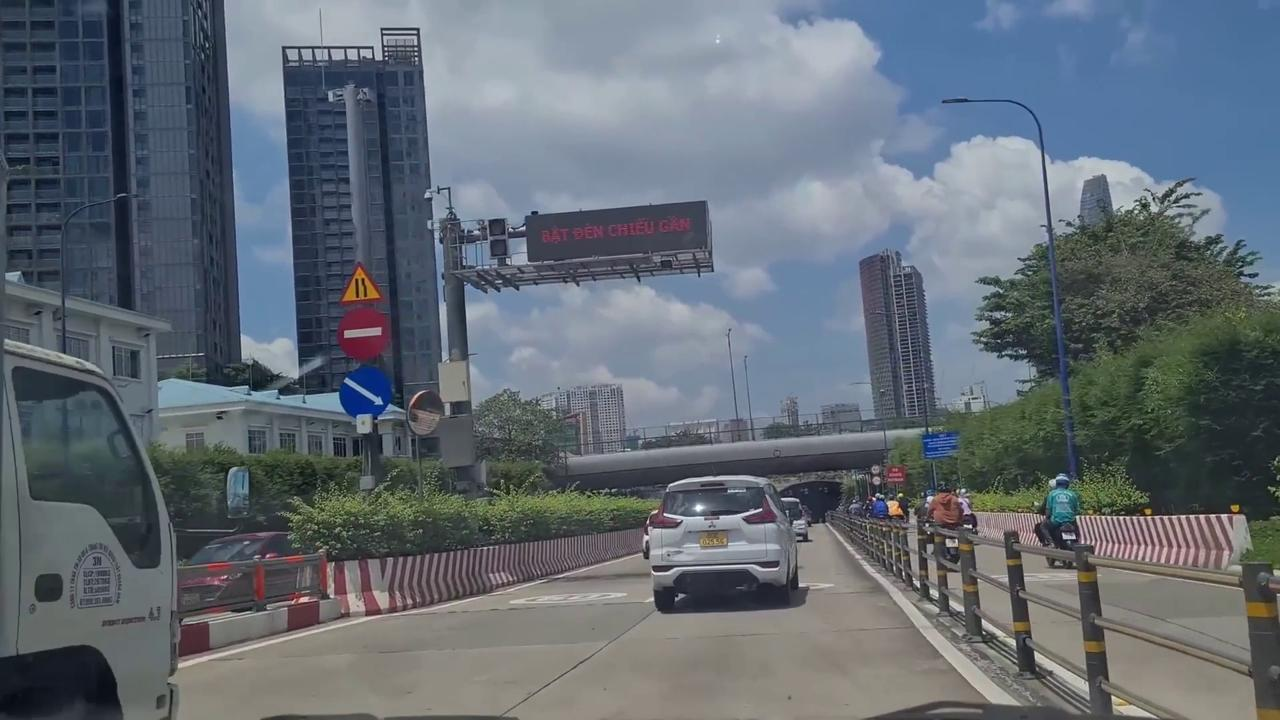Cấm đi ngược chiều: (335, 306, 391, 363)
Hướng phải đi vòng sang phải: (338, 363, 394, 421)
Đuờng hẹp: (335, 260, 382, 304)
